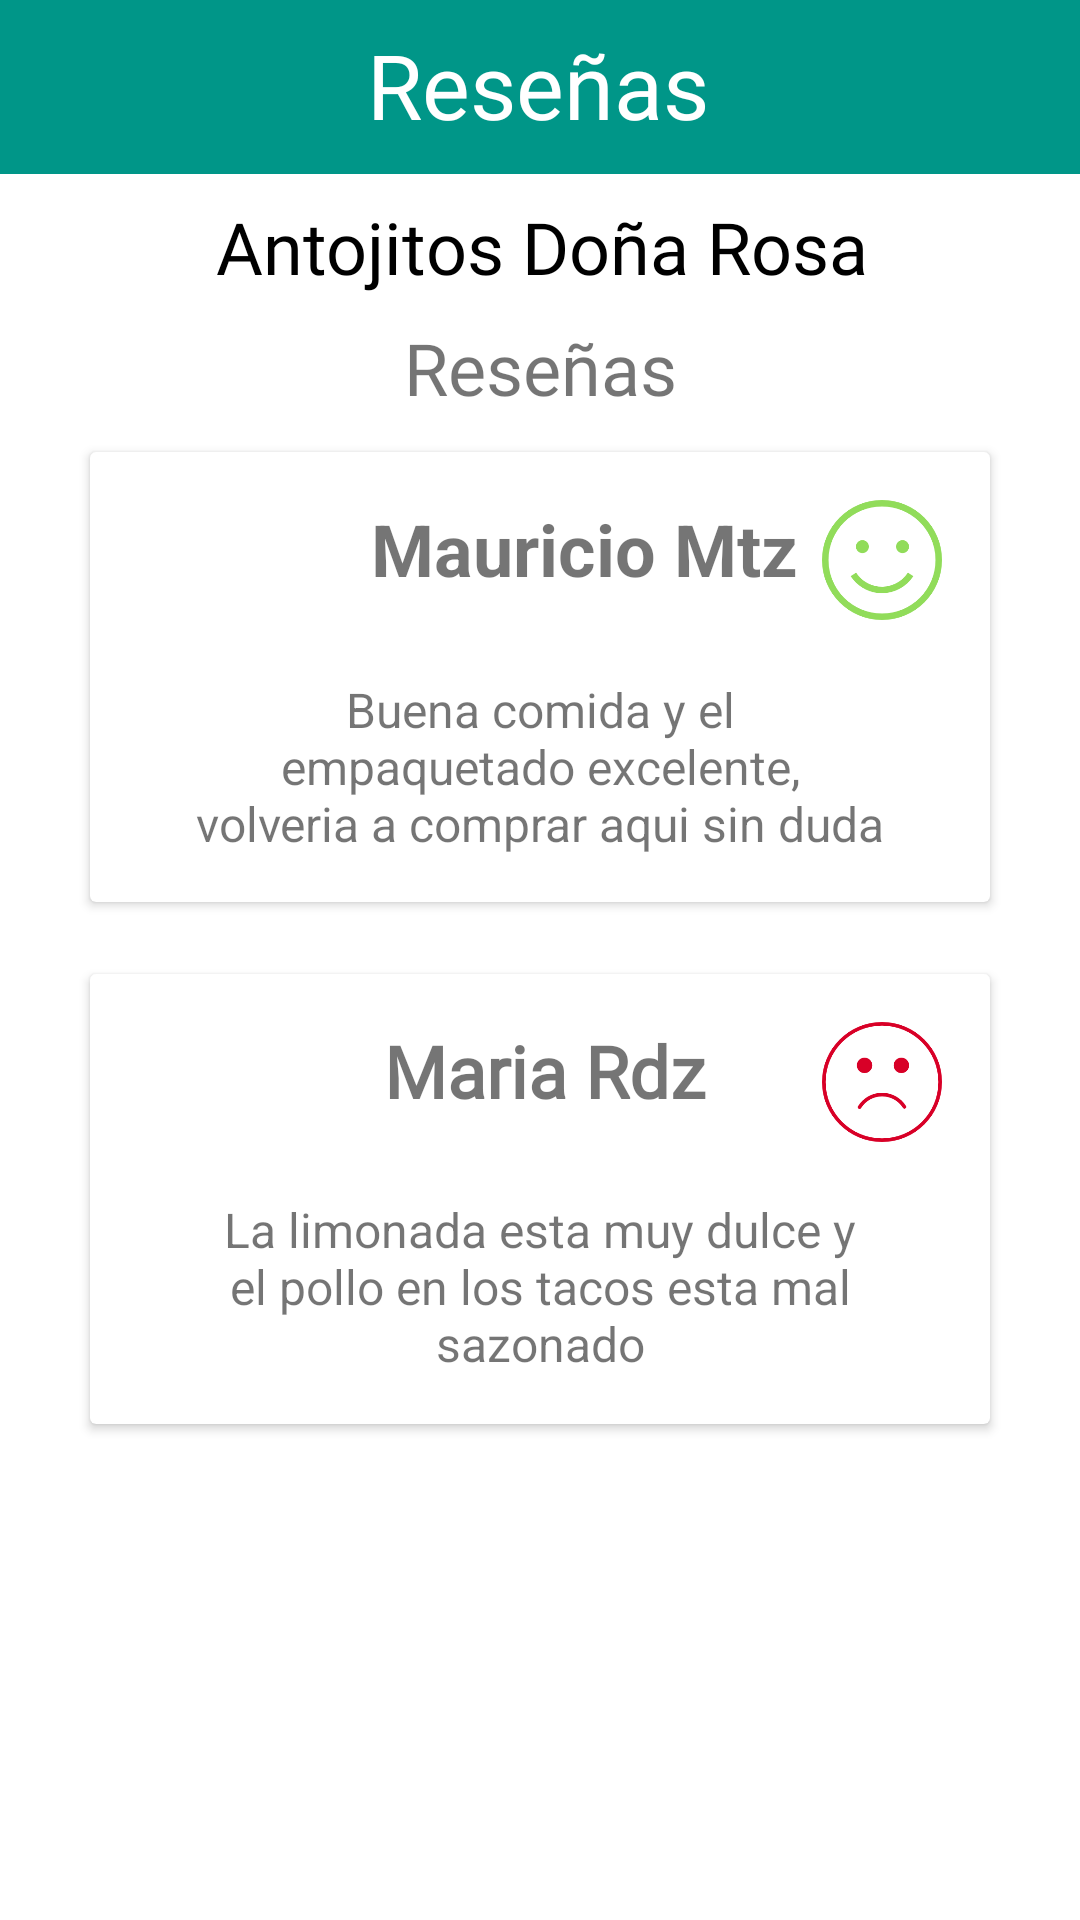

Screen size 1080px×1920px. Icon name, then its center in pixels as (x=x, y=y):
happy: (x=882, y=560)
sad: (x=882, y=1082)
